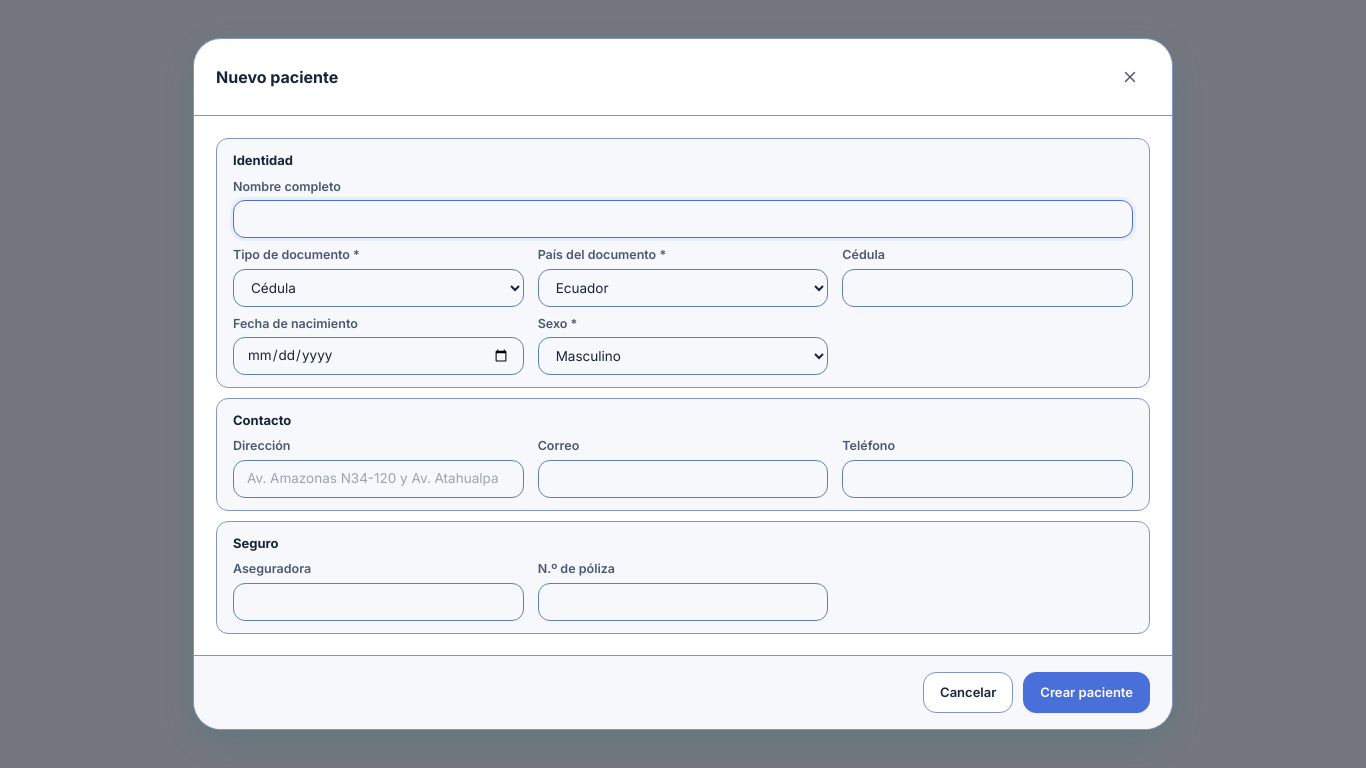
Test case: NewPatientModal — impossible birth dates › says the year is wrong before sending, instead of saving a 939-year-old patient
Type "Ana Torres" into the field labelled "Nombre completo" at point(683, 219), box [233,200,1133,238]
Type "1712345678" into the field labelled "Cédula" at point(988, 288), box [842,268,1133,306]
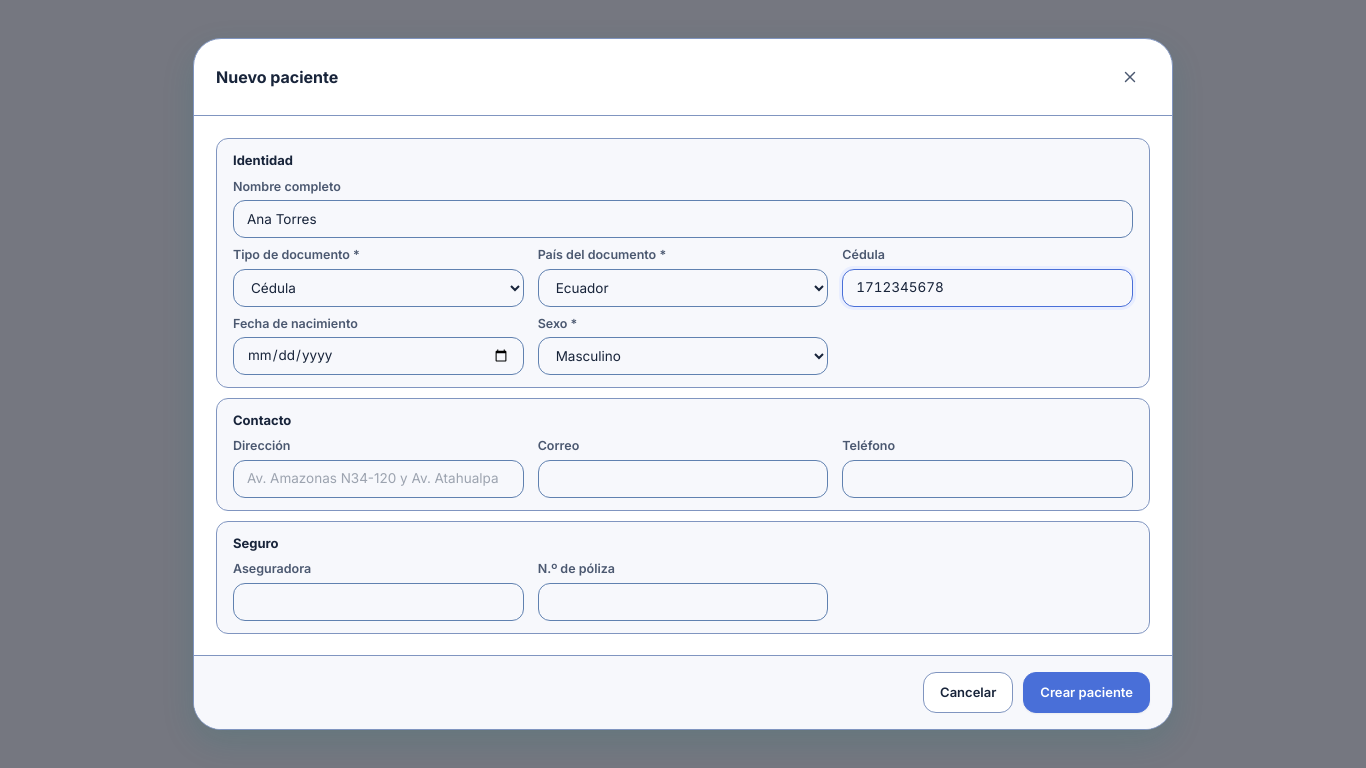
Type "1990-05-11" into the date field labelled "Fecha de nacimiento" at point(378, 356), box [233,337,524,375]
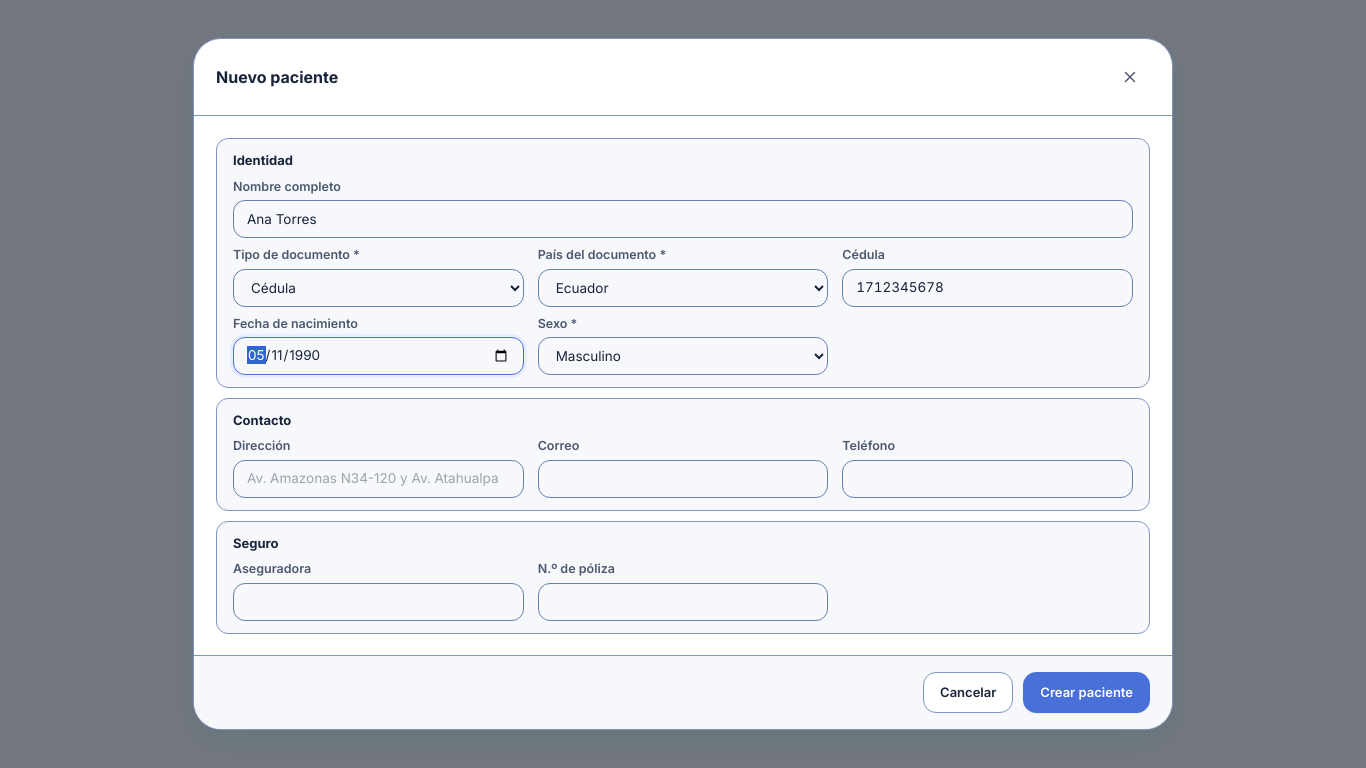
Type "Av. Amazonas" into the field labelled "Dirección" at point(378, 479), box [233,460,524,498]
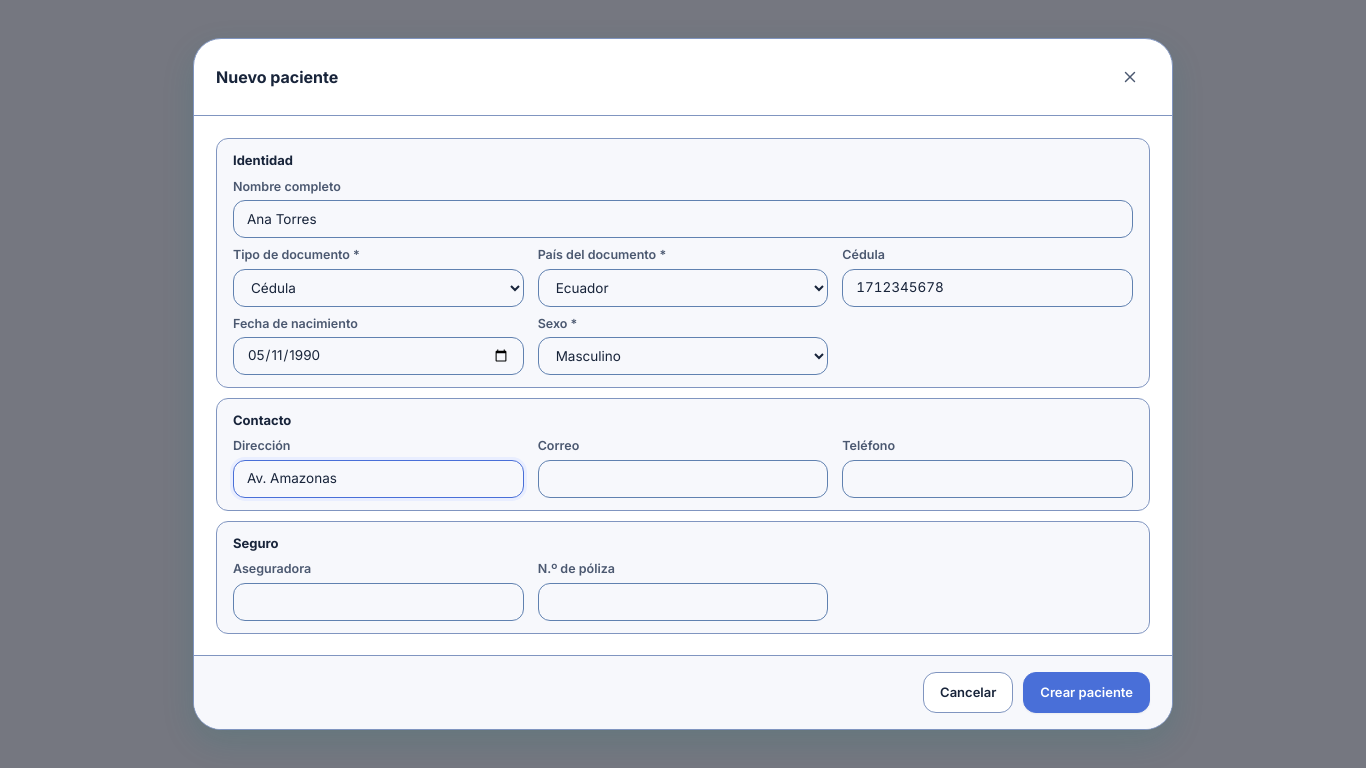
Type "0991234567" into the field labelled "Teléfono" at point(988, 479), box [842,460,1133,498]
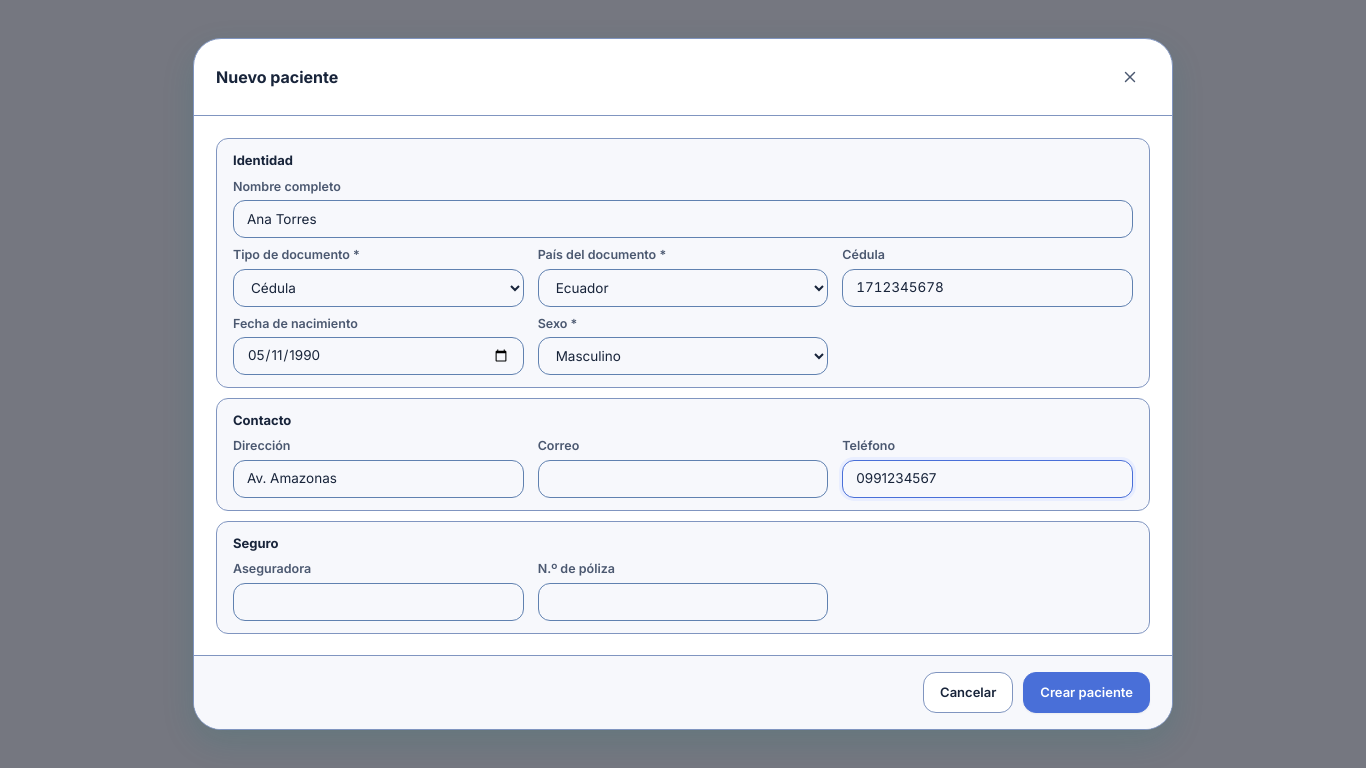
Type "1087-05-12" into the date field labelled "Fecha de nacimiento" at point(378, 356), box [233,337,524,375]
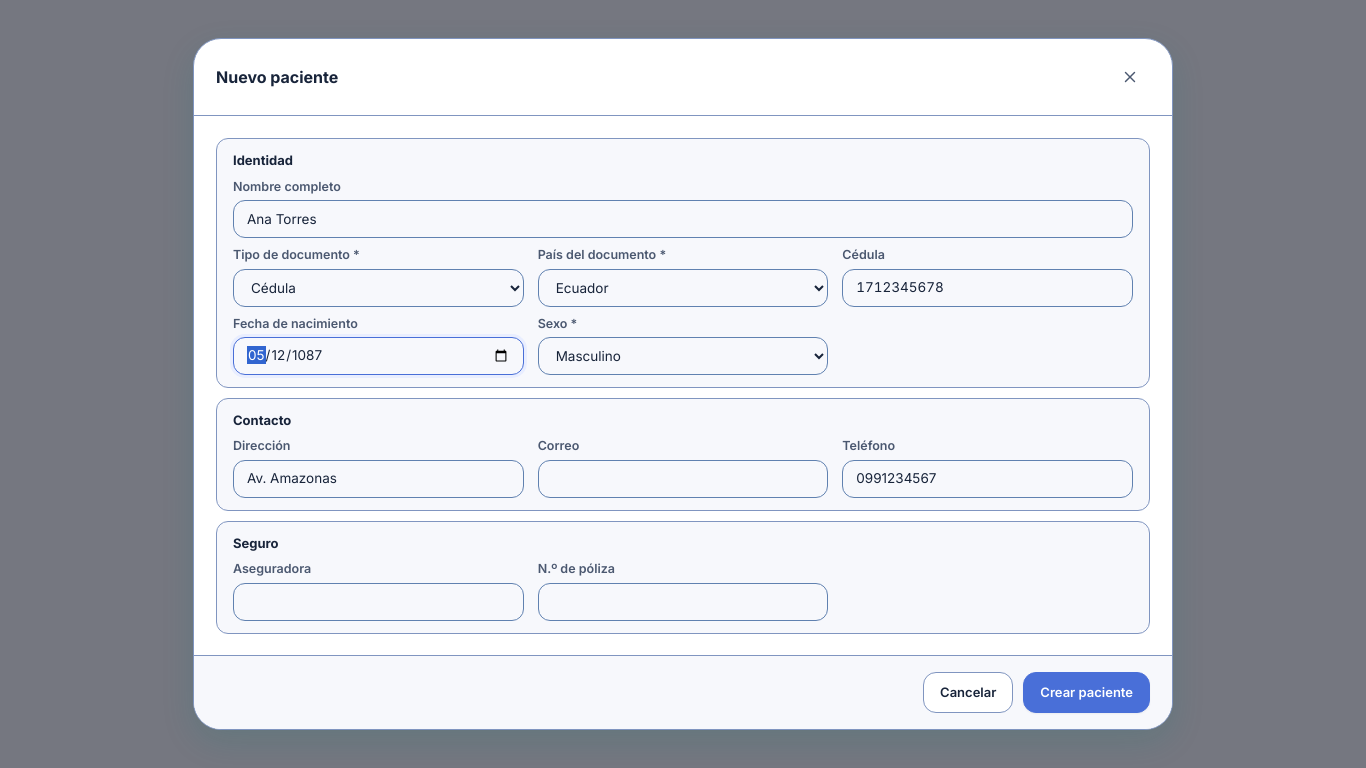
Click the button "Crear paciente" at point(1087, 692), box [1023,672,1150,713]
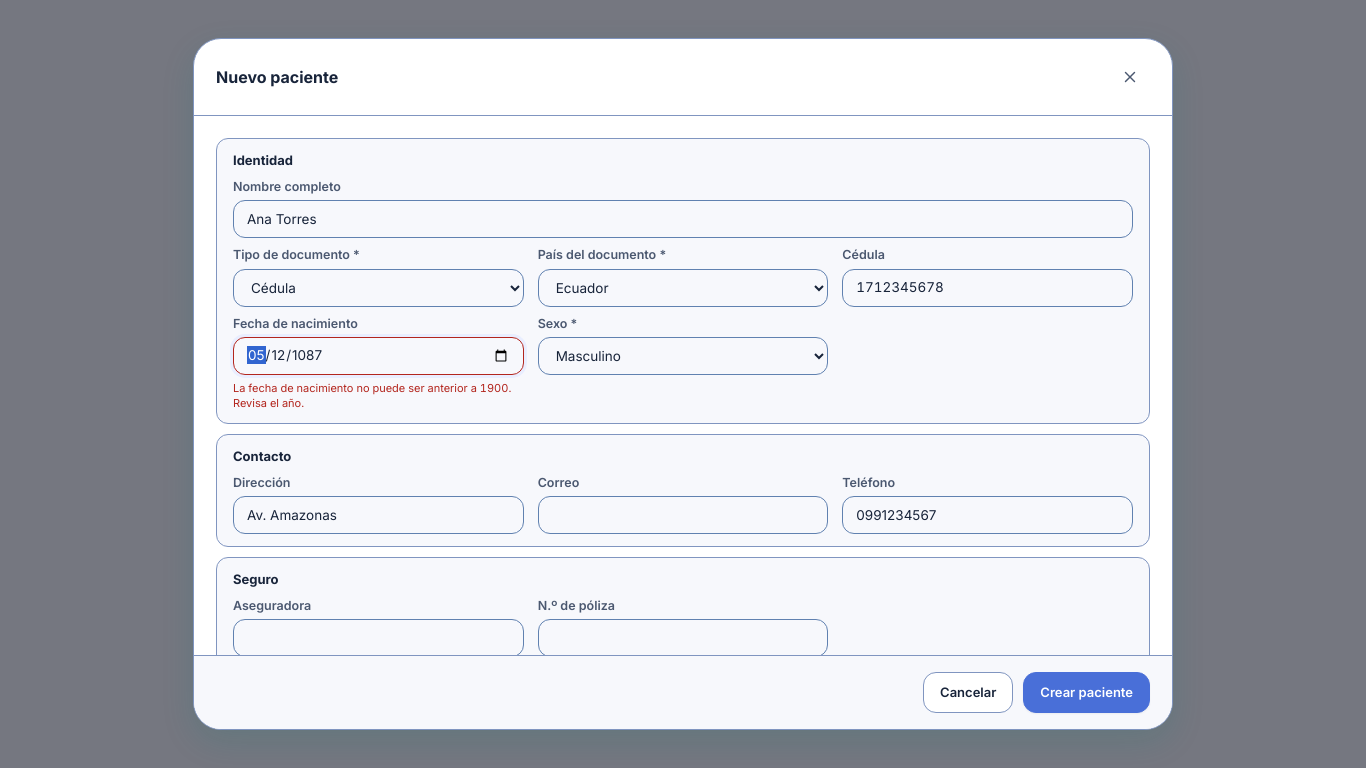
expect the text "La fecha de nacimiento no puede ser anterior a 1900. Revisa el año." is shown: met, box [233,381,524,411]
